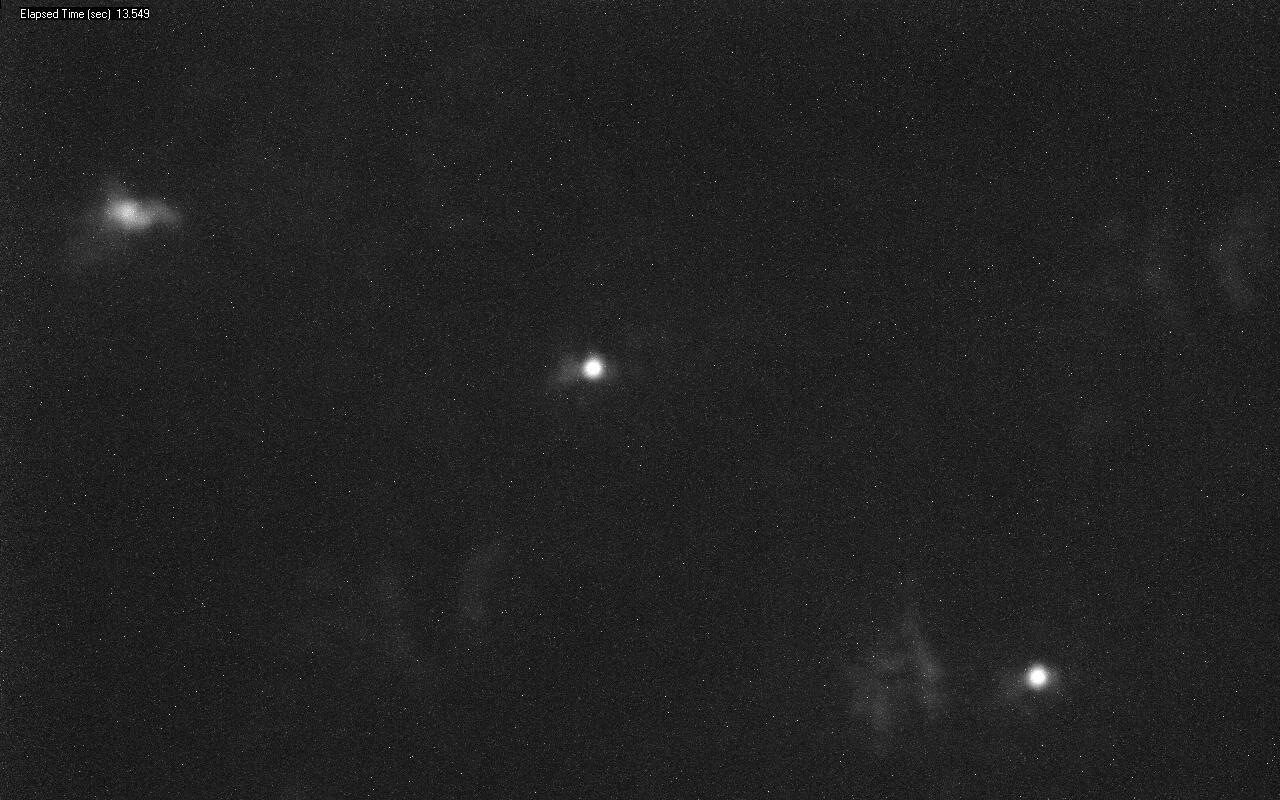Bead: (581, 358, 603, 379), (1028, 666, 1046, 689)
